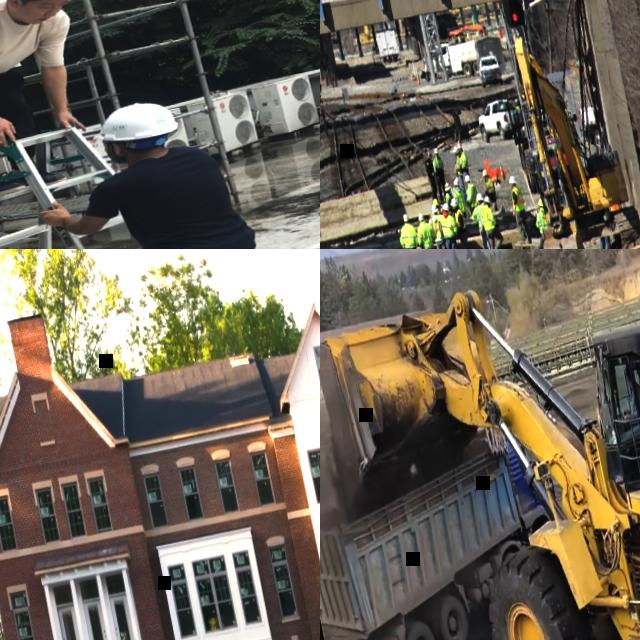Hardhat: (86, 99, 179, 147), (448, 198, 458, 208), (443, 182, 452, 192), (475, 193, 484, 203), (508, 176, 517, 186), (402, 213, 410, 223), (417, 213, 425, 222), (442, 203, 450, 212), (463, 175, 471, 184), (484, 196, 492, 205), (538, 197, 544, 208), (452, 180, 460, 188), (456, 142, 464, 150), (432, 148, 440, 155), (452, 148, 459, 156), (481, 169, 488, 177), (432, 205, 439, 212), (514, 98, 520, 104), (427, 151, 433, 156)
NO-Hardhat: (622, 367, 634, 383)
NO-Mask: (15, 9, 52, 29), (105, 148, 122, 166)
NO-Safety Vest: (112, 142, 257, 249), (0, 0, 57, 81), (618, 387, 640, 424), (424, 158, 434, 177)
Person: (20, 84, 302, 249), (0, 0, 114, 209), (516, 195, 555, 249), (504, 175, 532, 246), (477, 190, 508, 249), (611, 364, 640, 426), (464, 193, 495, 249), (449, 196, 477, 249), (436, 202, 466, 249), (480, 166, 506, 212), (412, 212, 443, 249), (430, 147, 450, 202), (427, 207, 453, 249), (395, 212, 424, 249), (422, 151, 441, 204), (462, 174, 480, 215), (452, 178, 468, 218), (449, 146, 464, 180), (456, 141, 470, 177), (441, 182, 455, 205), (596, 234, 613, 249), (514, 98, 524, 118), (432, 198, 441, 209)
Safety Cone: (497, 163, 506, 182), (415, 71, 421, 87), (411, 62, 416, 80), (408, 70, 414, 82)
Safety Vest: (414, 220, 438, 249), (437, 211, 458, 240), (397, 223, 419, 249), (469, 204, 488, 234), (428, 215, 446, 244), (479, 204, 498, 231), (532, 208, 550, 235), (510, 185, 526, 214), (453, 187, 467, 215), (464, 182, 478, 209), (452, 207, 467, 231), (431, 156, 445, 177), (452, 155, 463, 177), (483, 177, 495, 195), (458, 152, 468, 171), (444, 192, 452, 203), (515, 105, 522, 116)
vehicle: (320, 249, 640, 640), (320, 399, 580, 640), (500, 19, 640, 249), (429, 32, 506, 85), (474, 95, 526, 145), (372, 29, 400, 66), (476, 54, 505, 88)
